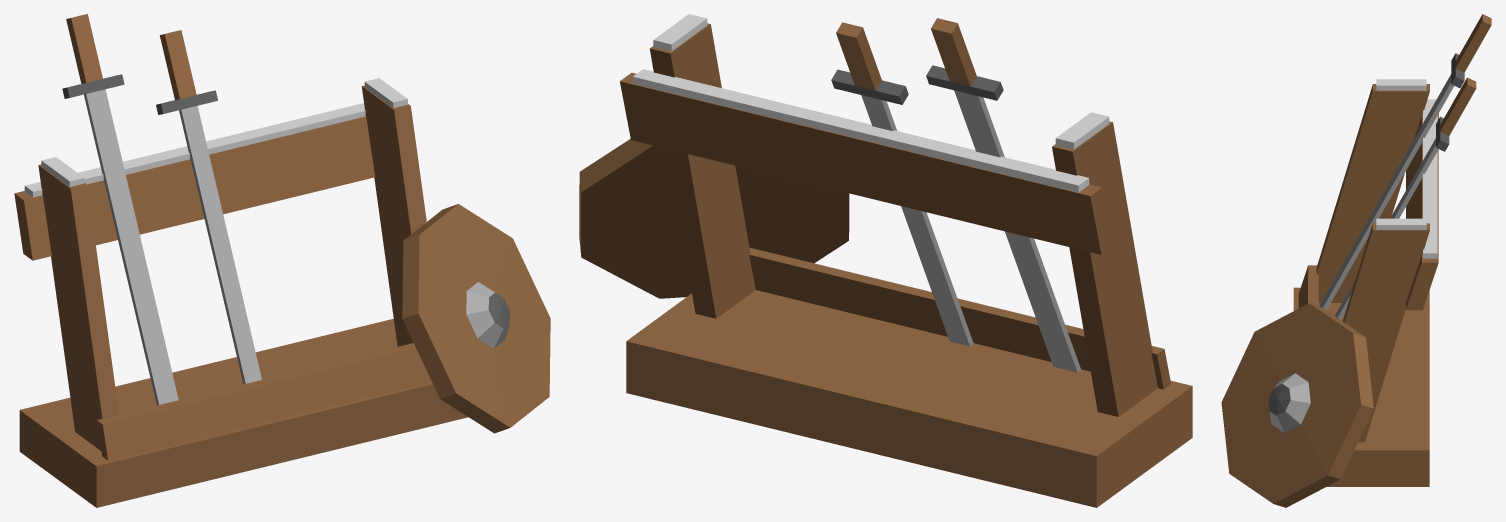
File: Rack_snow_mat.fbx
The picture shows the model from 3 angles, left to right: view 1: azimuth 30°, elevation 25°; view 2: azimuth 150°, elevation 25°; view 3: azimuth 270°, elevation 25°; orthographic projection. The views are drawn at different scales.
Visible parts, largest first — view 1: Rack_snow_mat; view 2: Rack_snow_mat; view 3: Rack_snow_mat.
Part boxes in pixels (box(x1,y1,x2,y2)): Rack_snow_mat: box(14, 14, 550, 507); Rack_snow_mat: box(579, 14, 1192, 507); Rack_snow_mat: box(1221, 14, 1491, 507).
Size of the model in its own units: 1.19 by 0.9385 by 0.6649.
